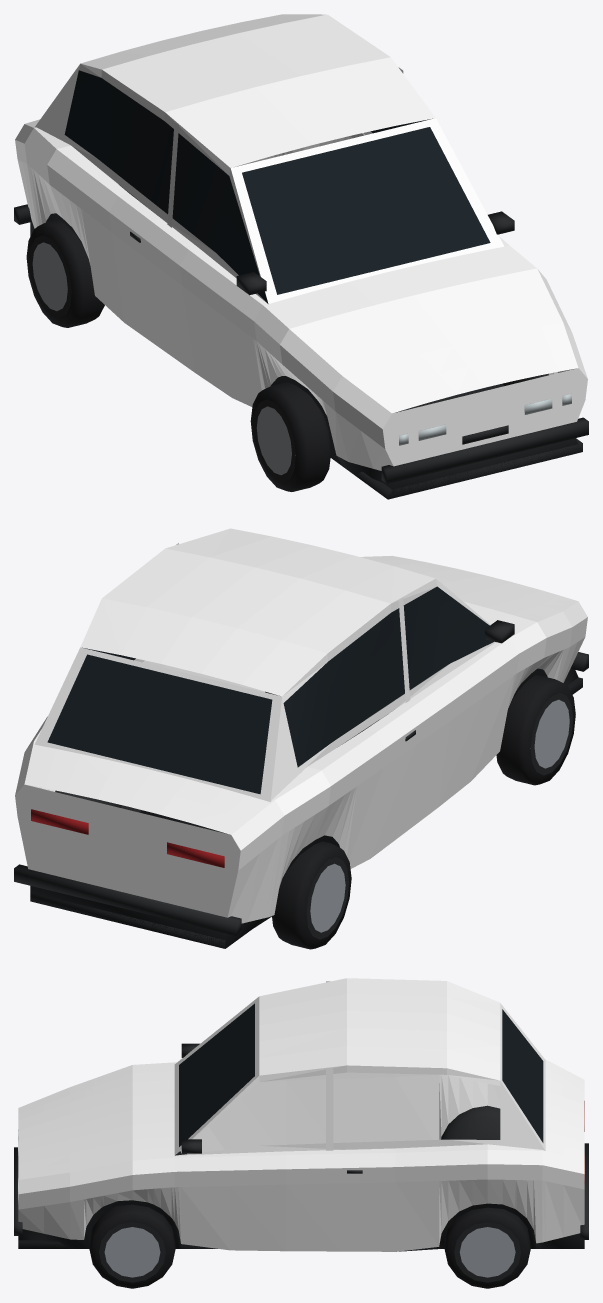
Rendered from kanaya_pingo.glb.
The picture shows the model from 3 angles, top to bottom: view 1: azimuth 30°, elevation 25°; view 2: azimuth 150°, elevation 25°; view 3: azimuth 270°, elevation 25°; orthographic projection. The views are drawn at different scales.
Parts seen in each view (by area): view 1: Body_Paint, Body_Details, Mount_FrontLeft_Wheel_Details, Mount_RearLeft_Wheel_Details; view 2: Body_Paint, Body_Details, Mount_FrontLeft_Wheel_Details, Mount_RearLeft_Wheel_Details; view 3: Body_Paint, Body_Details, Mount_FrontRight_Wheel_Details, Mount_RearRight_Wheel_Details.
Part boxes in pixels (<box>): Body_Paint: <box>15,14,587,470</box>; Body_Details: <box>14,70,588,499</box>; Mount_FrontLeft_Wheel_Details: <box>250,382,331,491</box>; Mount_RearLeft_Wheel_Details: <box>26,219,104,327</box>; Body_Paint: <box>15,528,587,923</box>; Body_Details: <box>14,586,588,948</box>; Mount_FrontLeft_Wheel_Details: <box>496,674,575,785</box>; Mount_RearLeft_Wheel_Details: <box>272,841,351,949</box>; Body_Paint: <box>18,978,584,1251</box>; Body_Details: <box>14,1003,588,1251</box>; Mount_FrontRight_Wheel_Details: <box>89,1204,175,1288</box>; Mount_RearRight_Wheel_Details: <box>444,1207,530,1288</box>.
Bounding box in the file's own units: 1.66 × 1.54 × 3.67.
Materials: 2 (1 with a texture image).
